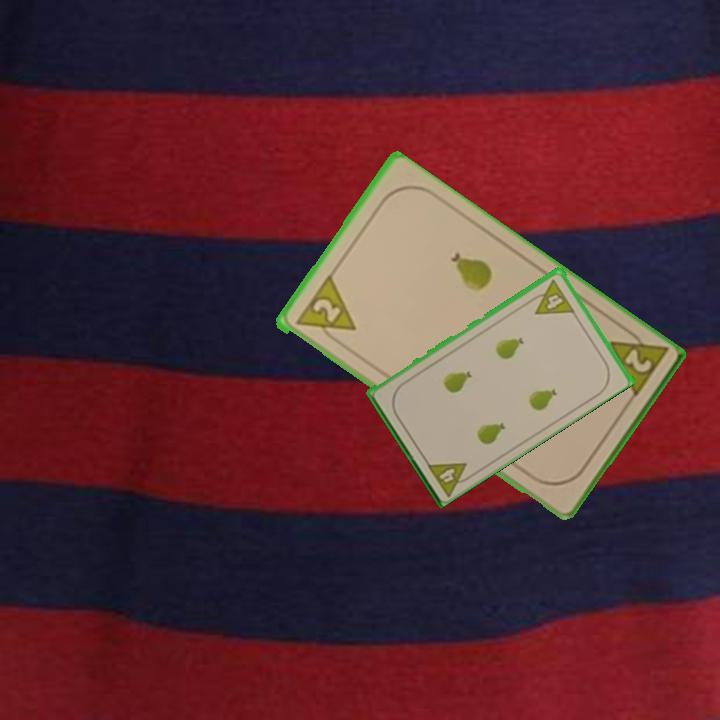2p: (290, 273, 359, 348), (620, 345, 655, 376)
4p: (525, 275, 577, 317), (423, 458, 477, 498)
